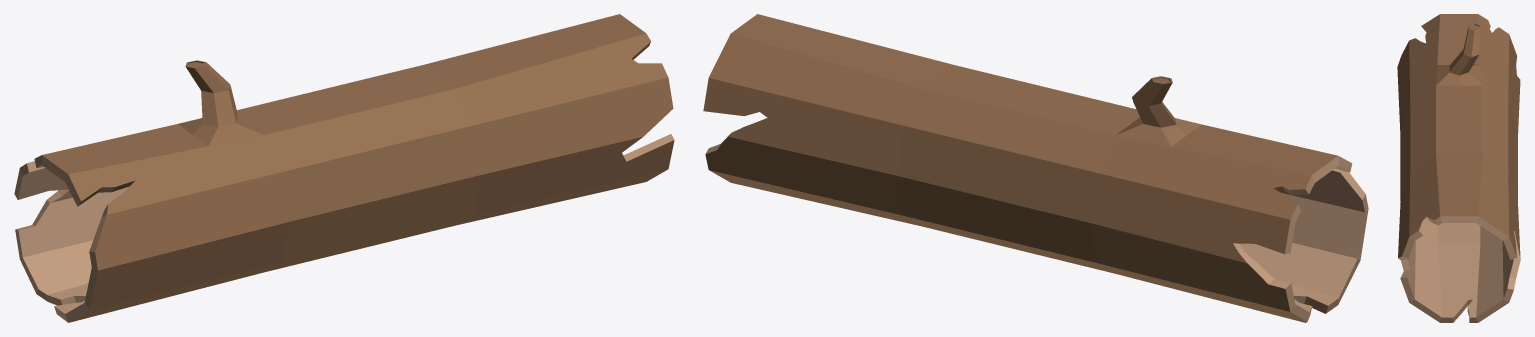
File: wood.fbx
The picture shows the model from 3 angles, left to right: view 1: azimuth 30°, elevation 25°; view 2: azimuth 150°, elevation 25°; view 3: azimuth 270°, elevation 25°; orthographic projection. The views are drawn at different scales.
Parts seen in each view (by area): view 1: Cylinder; view 2: Cylinder; view 3: Cylinder.
Boxes of the visible parts, x1,y1,x2,y2 form: Cylinder: [14, 14, 674, 322]; Cylinder: [703, 14, 1368, 322]; Cylinder: [1397, 14, 1520, 322].
Size of the model in its own units: 1.35 by 0.4533 by 0.3443.
Materials: 1 (1 with a texture image).
